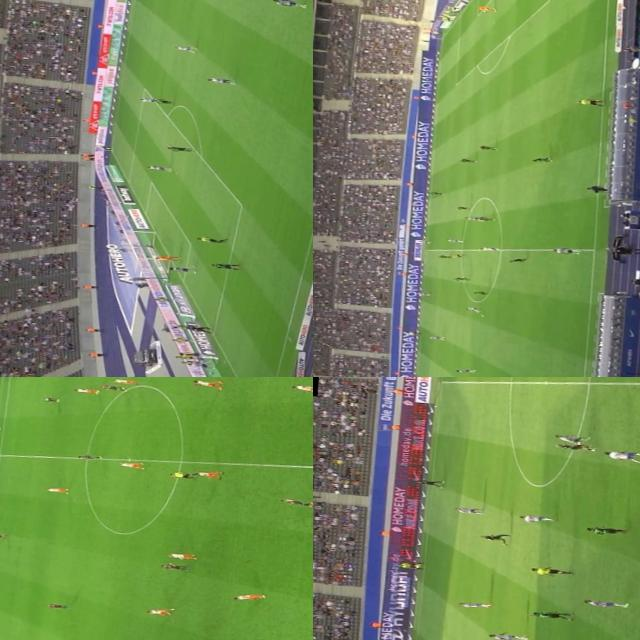ball: (477, 313, 485, 318)
player: (600, 449, 640, 462), (474, 531, 511, 545), (528, 608, 571, 620), (552, 432, 586, 446), (582, 598, 628, 608), (584, 523, 620, 535), (178, 322, 214, 333), (230, 591, 264, 602), (487, 630, 524, 640), (556, 442, 592, 452), (516, 514, 556, 523), (453, 600, 488, 610), (279, 497, 313, 507), (190, 379, 224, 389), (41, 600, 68, 612), (167, 264, 197, 274), (166, 144, 196, 154), (204, 76, 233, 86), (470, 3, 494, 15), (268, 0, 308, 7), (146, 606, 174, 616), (114, 460, 142, 470), (75, 452, 103, 462), (208, 262, 238, 271), (169, 44, 199, 53), (41, 485, 67, 495), (414, 477, 440, 487), (454, 505, 479, 515), (152, 254, 182, 262), (142, 163, 172, 171), (552, 247, 582, 255), (158, 563, 188, 571), (164, 551, 194, 559), (192, 470, 222, 478), (108, 378, 138, 386), (530, 154, 552, 164), (98, 384, 124, 392), (291, 383, 313, 392), (137, 96, 161, 104), (150, 98, 172, 106), (453, 366, 475, 374), (75, 386, 97, 394), (452, 274, 472, 282), (478, 246, 502, 252), (508, 256, 528, 263), (463, 216, 485, 222), (442, 238, 464, 244), (464, 306, 482, 313), (458, 158, 478, 164), (478, 144, 498, 150), (471, 290, 489, 296), (426, 335, 446, 340), (414, 291, 430, 297), (476, 216, 495, 221), (427, 190, 445, 195), (38, 396, 56, 401), (454, 205, 470, 210), (436, 254, 452, 259), (0, 531, 5, 541)
